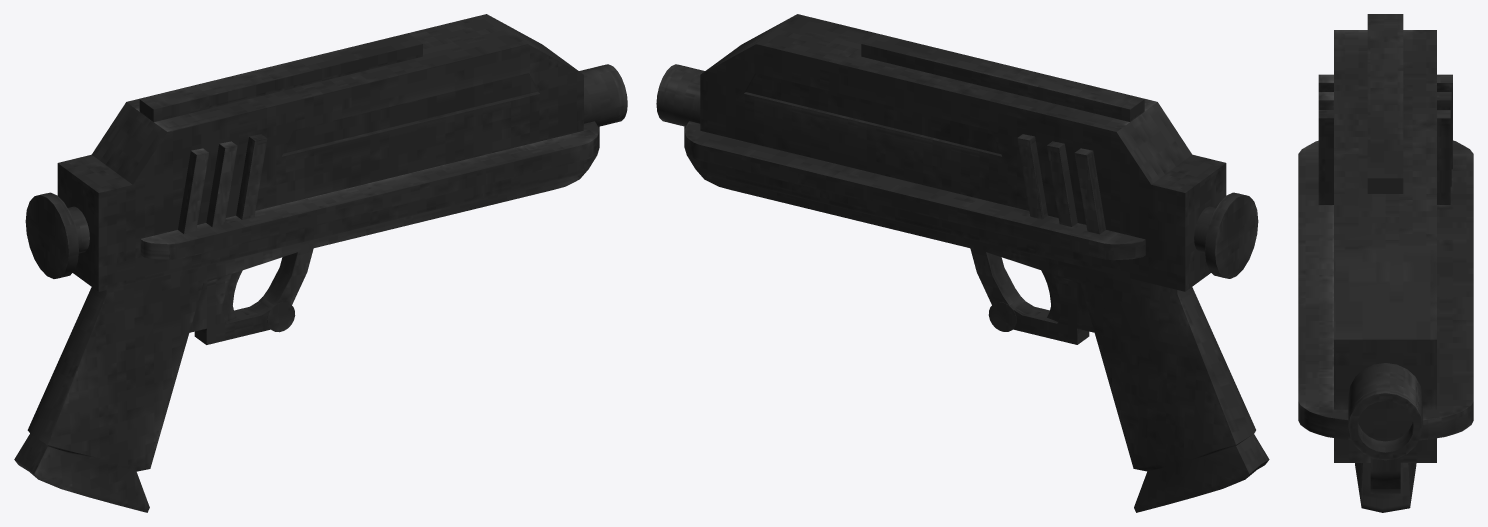
File: blaster_compressed.glb
3 views of the same model, side by side, from view 1: azimuth 30°, elevation 25°; view 2: azimuth 150°, elevation 25°; view 3: azimuth 270°, elevation 25° (orthographic). The views are drawn at different scales.
Visible parts, largest first — view 1: pCube15_lambert1_0; view 2: pCube15_lambert1_0; view 3: pCube15_lambert1_0.
Boxes of the visible parts, x1=… form: pCube15_lambert1_0: x1=14, y1=14, x2=627, y2=512; pCube15_lambert1_0: x1=656, y1=14, x2=1269, y2=512; pCube15_lambert1_0: x1=1298, y1=14, x2=1473, y2=512.
Bounding box in the file's own units: 0.1322 × 0.0858 × 0.0272.
Materials: 1 (1 with a texture image).
